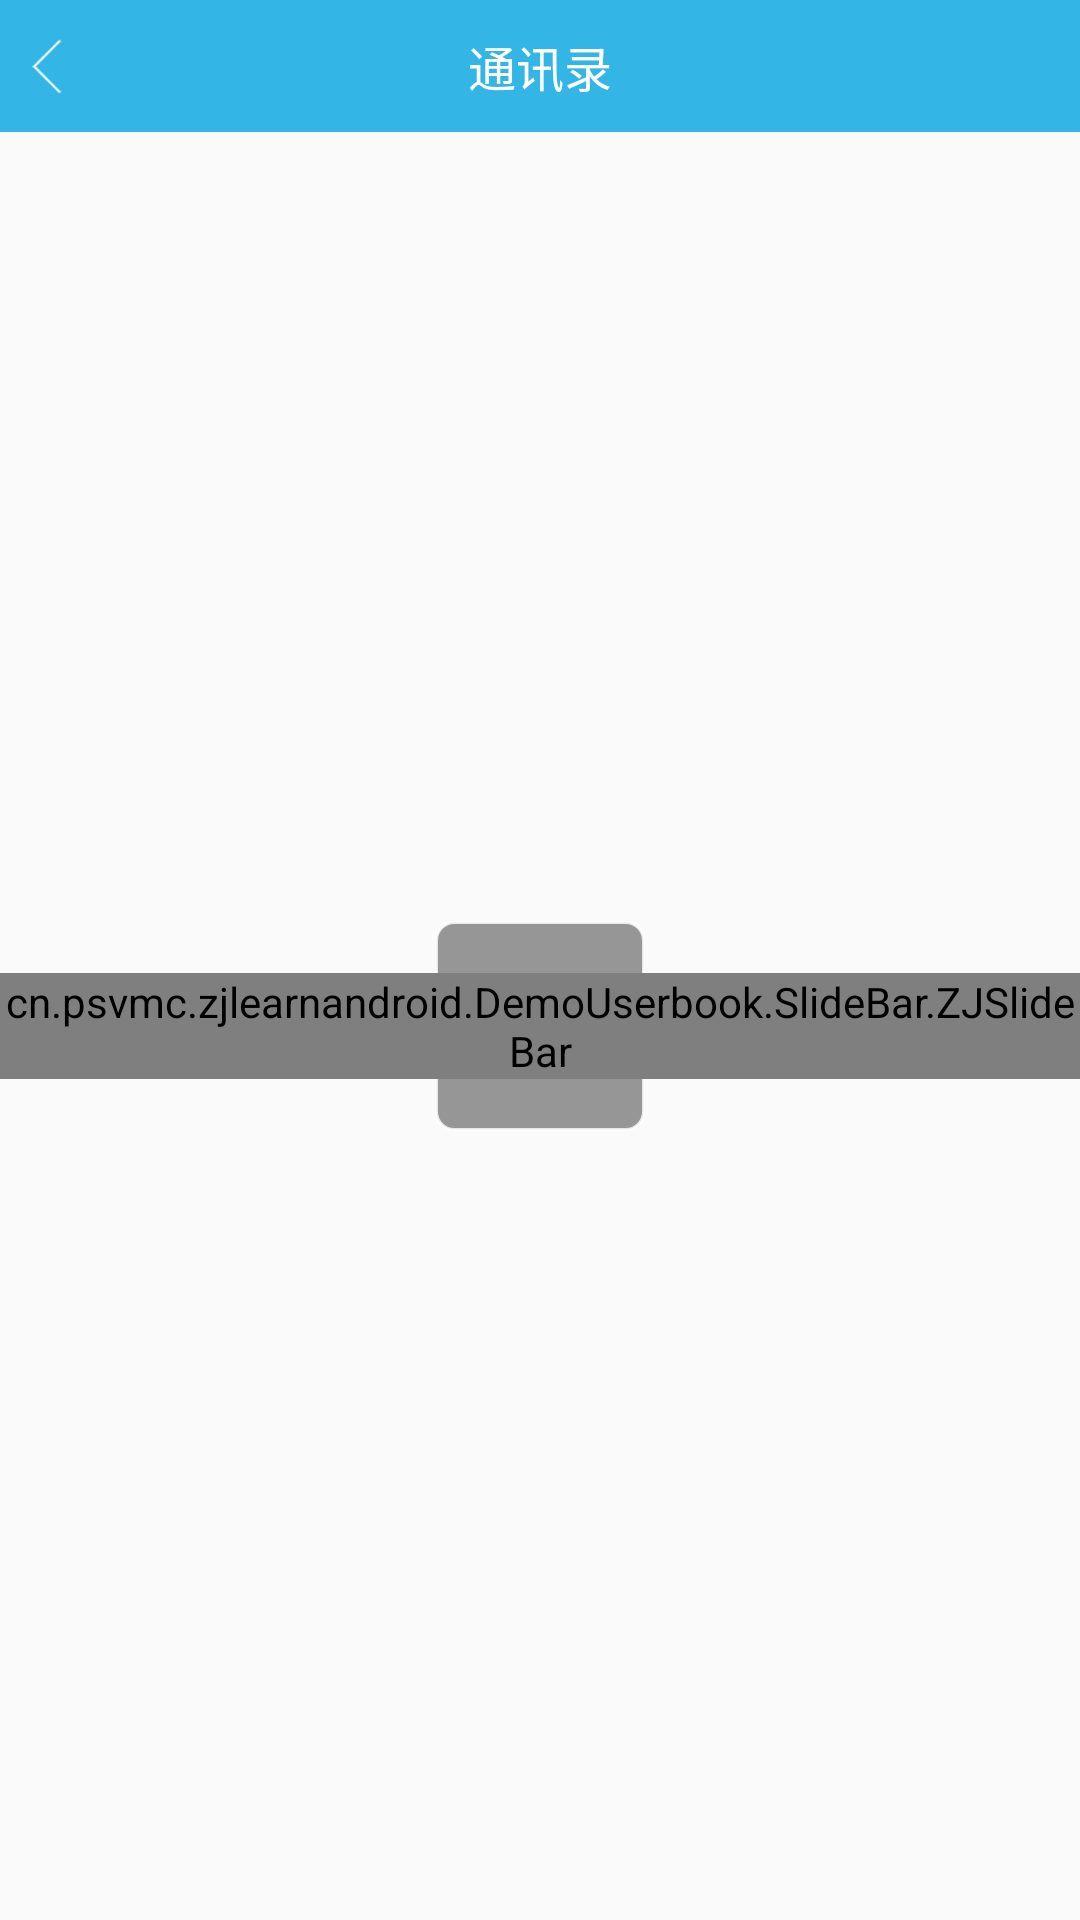

Screen size 1080 x 1920. Icon name, then its box in pixels as bbox=[x1, y1, x2, y2]:
back: bbox=[32, 39, 62, 94]
